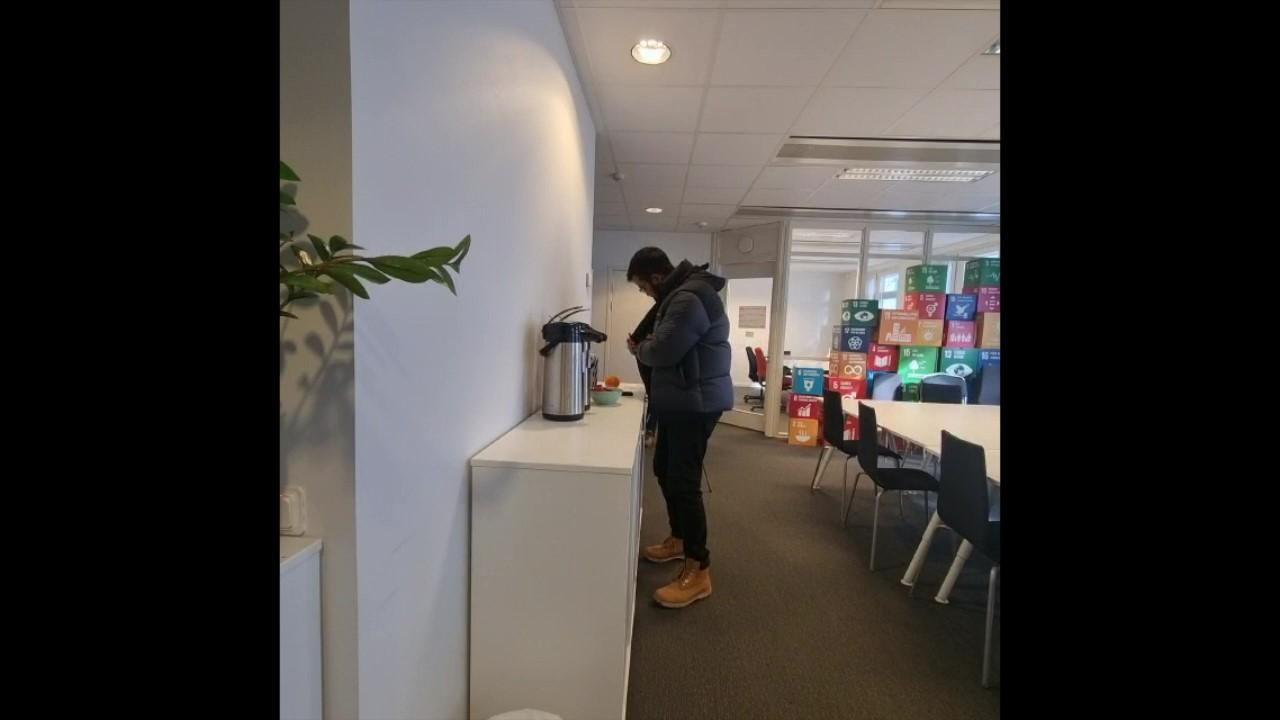shoplifting: (627, 245, 730, 614)
